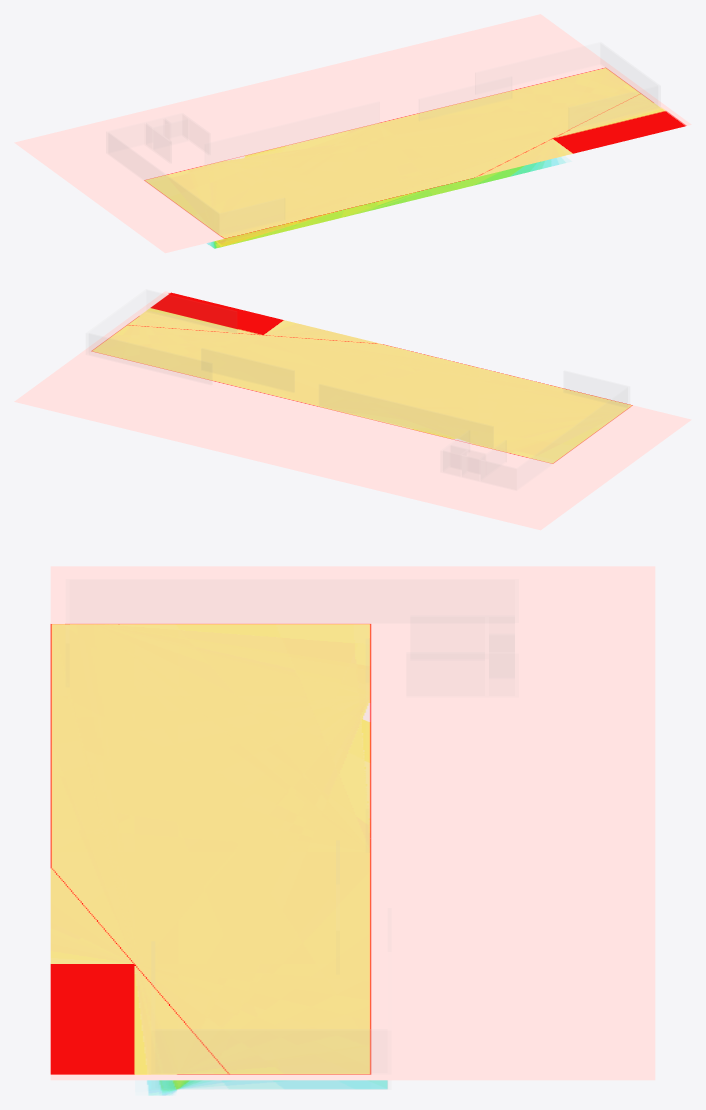
3 renders of one model, top to bottom at view 1: azimuth 30°, elevation 25°; view 2: azimuth 150°, elevation 25°; view 3: azimuth 270°, elevation 25°, orthographic. The views are drawn at different scales.
Parts seen in each view (by area): view 1: heatmap_2_balpav_max, heatmap_2_balpav_color, Mesh_3; view 2: heatmap_2_balpav_max, Mesh_3; view 3: heatmap_2_balpav_max, Mesh_3, heatmap_2_balpav_color.
Part boxes in pixels (x1,y1,x2,y2): heatmap_2_balpav_max: (14, 14, 691, 253); heatmap_2_balpav_color: (207, 157, 565, 248); Mesh_3: (108, 119, 187, 152); heatmap_2_balpav_max: (14, 291, 691, 530); Mesh_3: (443, 387, 627, 479); heatmap_2_balpav_max: (50, 566, 655, 1080); Mesh_3: (410, 615, 514, 677); heatmap_2_balpav_color: (147, 1080, 387, 1095).
Bounding box in the file's own units: 2.01 × 0.108 × 1.
6 materials, 2 textured.
